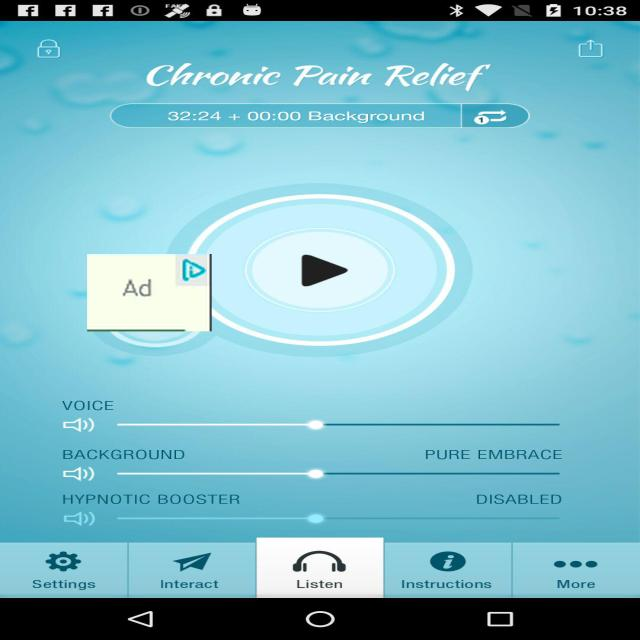sneaking: (87, 254, 212, 331)
